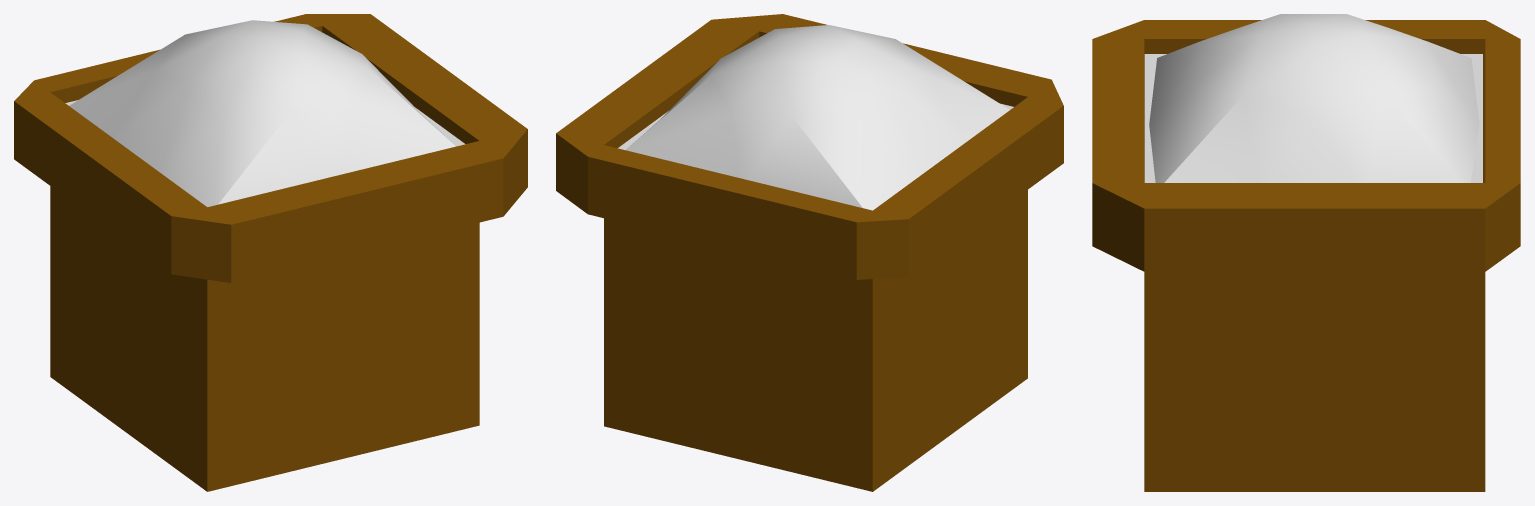
File: Bag_Of_Flour.fbx
3 views of the same model, side by side, from view 1: azimuth 30°, elevation 25°; view 2: azimuth 150°, elevation 25°; view 3: azimuth 270°, elevation 25° (orthographic). The views are drawn at different scales.
Visible parts, largest first — view 1: Icosphere; view 2: Icosphere; view 3: Icosphere.
Boxes of the visible parts, x1,y1,x2,y2 form: Icosphere: (14,14,527,491); Icosphere: (556,14,1063,491); Icosphere: (1092,14,1520,491).
Size of the model in its own units: 2.62 by 2.56 by 2.51.
